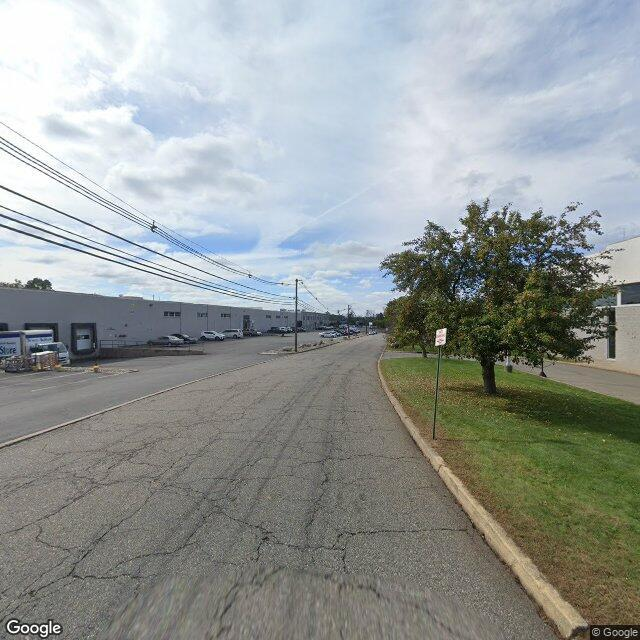pothole: (62, 565, 82, 583), (259, 530, 276, 548)
